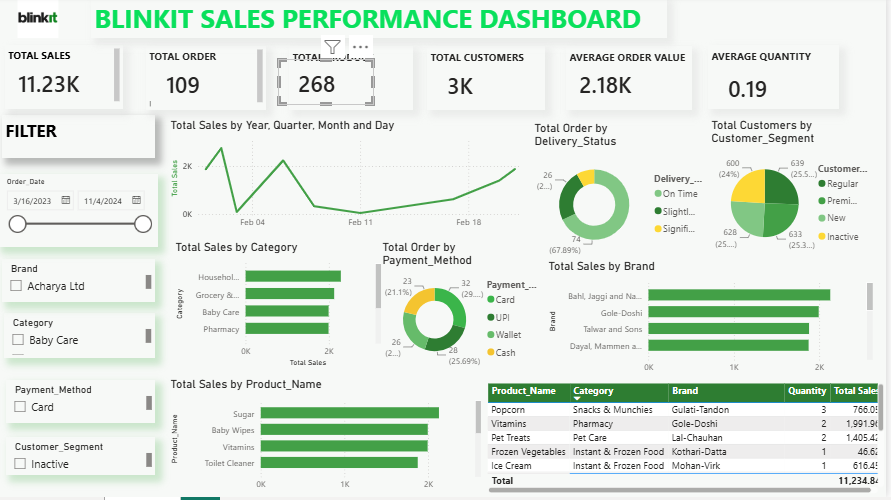

What the dashboard file says about the page in this screenshot:
{"tool":"powerbi","page":{"name":"Page 1","canvas":[1280,720],"ordinal":0},"visuals":[{"type":"clusteredBarChart","fields":{"Y":["blinkit_customers.Total Sales"],"Category":["blinkit_products.Category"]},"box":[250.2,349.8,305.9,187.3],"z":0},{"type":"clusteredBarChart","fields":{"Y":["blinkit_customers.Total Sales"],"Category":["blinkit_products.Brand"]},"box":[787.7,377.3,476.6,174.2],"z":1000},{"type":"lineChart","fields":{"Category":["blinkit_orders.Order_Date.Variation.Date Hierarchy.Year","blinkit_orders.Order_Date.Variation.Date Hierarchy.Quarter","blinkit_orders.Order_Date.Variation.Date Hierarchy.Month","blinkit_orders.Order_Date.Variation.Date Hierarchy.Day"],"Y":["blinkit_customers.Total Sales"]},"box":[242.9,174.1,523.9,168.3],"z":2000},{"type":"donutChart","fields":{"Category":["blinkit_orders.Payment_Method"],"Y":["blinkit_customers.Total Order"]},"box":[548.6,349.9,239,187.2],"z":3000},{"type":"donutChart","fields":{"Category":["blinkit_orders.Delivery_Status"],"Y":["blinkit_customers.Total Order"]},"box":[766.8,178.5,256.1,199],"z":4000},{"type":"pieChart","fields":{"Category":["blinkit_customers.Customer_Segment"],"Y":["blinkit_customers.Total Customers"]},"box":[1022.9,174.1,241.5,203.4],"z":5000},{"type":"barChart","fields":{"Category":["blinkit_products.Product_Name"],"Y":["blinkit_customers.Total Sales"]},"box":[242.9,547.3,456.6,172.7],"z":6000},{"type":"tableEx","fields":{"Values":["blinkit_products.Product_Name","blinkit_products.Category","blinkit_products.Brand","blinkit_order_items.Quantity","blinkit_customers.Total Sales"]},"box":[699.5,551.7,581,168.3],"z":7000},{"type":"slicer","fields":{"Values":["blinkit_orders.Order_Date"]},"box":[0,254.9,230.4,105.1],"z":8000},{"type":"slicer","fields":{"Values":["blinkit_products.Category"]},"box":[8.6,455,217.4,64.8],"z":9000},{"type":"slicer","fields":{"Values":["blinkit_products.Brand"]},"box":[5.8,377.3,220.3,61.9],"z":10000},{"type":"slicer","fields":{"Values":["blinkit_customers.Customer_Segment"]},"box":[11.5,633.6,214.6,54.7],"z":11000},{"type":"slicer","fields":{"Values":["blinkit_orders.Payment_Method"]},"box":[11.5,551.5,214.6,61.9],"z":12000},{"type":"textbox","box":[133.9,0,829.4,59],"z":13000},{"type":"textbox","box":[10.1,69.1,169.9,92.2],"z":14000},{"type":"textbox","box":[213.7,70.2,172.7,92.2],"z":15000},{"type":"textbox","box":[418.5,70.2,178.5,92.2],"z":16000},{"type":"textbox","box":[617.6,70.2,169.8,92.2],"z":17000},{"type":"textbox","box":[818,70.2,181.5,92.2],"z":18000},{"type":"textbox","box":[1022.9,68.8,188.8,92.2],"z":19000},{"type":"cardVisual","fields":{"Data":["blinkit_customers.Total Sales"]},"box":[0,86.4,182.9,73.4],"z":20000},{"type":"cardVisual","fields":{"Data":["blinkit_customers.Total Order"]},"box":[213.1,87.8,138.2,73.4],"z":21000},{"type":"cardVisual","fields":{"Data":["blinkit_customers.Total Product"]},"box":[403.9,89.3,137.6,65.9],"z":22000},{"type":"cardVisual","fields":{"Data":["blinkit_customers.Total Customers"]},"box":[617.8,89.3,133.9,73.4],"z":23000},{"type":"cardVisual","fields":{"Data":["blinkit_customers.Average Order Value"]},"box":[807.8,85,148.3,76.3],"z":24000},{"type":"cardVisual","fields":{"Data":["blinkit_customers.Average Quantity per Order"]},"box":[1022.4,87.8,148.3,82.1],"z":25000},{"type":"textbox","box":[5.8,169.9,220.3,61.9],"z":26000},{"type":"image","box":[0,0,115.2,59],"z":27000}]}

Visuals, with their boxes in screenshot pixels (x1, y1, x2, y2), scaled from the page's 1280x720 canvas onto the 891x500 screenshot:
clusteredBarChart - blinkit_customers.Total Sales x blinkit_products.Category: BBox(174, 243, 387, 373)
clusteredBarChart - blinkit_customers.Total Sales x blinkit_products.Brand: BBox(548, 262, 880, 383)
lineChart - blinkit_orders.Order_Date.Variation.Date Hierarchy.Year x blinkit_orders.Order_Date.Variation.Date Hierarchy.Quarter: BBox(169, 121, 534, 238)
donutChart - blinkit_orders.Payment_Method x blinkit_customers.Total Order: BBox(382, 243, 548, 373)
donutChart - blinkit_orders.Delivery_Status x blinkit_customers.Total Order: BBox(534, 124, 712, 262)
pieChart - blinkit_customers.Customer_Segment x blinkit_customers.Total Customers: BBox(712, 121, 880, 262)
barChart - blinkit_products.Product_Name x blinkit_customers.Total Sales: BBox(169, 380, 487, 499)
tableEx - blinkit_products.Product_Name x blinkit_products.Category: BBox(487, 383, 890, 499)
slicer - blinkit_orders.Order_Date: BBox(0, 177, 160, 250)
slicer - blinkit_products.Category: BBox(6, 316, 157, 361)
slicer - blinkit_products.Brand: BBox(4, 262, 157, 305)
slicer - blinkit_customers.Customer_Segment: BBox(8, 440, 157, 478)
slicer - blinkit_orders.Payment_Method: BBox(8, 383, 157, 426)
textbox: BBox(93, 0, 671, 41)
textbox: BBox(7, 48, 125, 112)
textbox: BBox(149, 49, 269, 113)
textbox: BBox(291, 49, 416, 113)
textbox: BBox(430, 49, 548, 113)
textbox: BBox(569, 49, 696, 113)
textbox: BBox(712, 48, 843, 112)
cardVisual - blinkit_customers.Total Sales: BBox(0, 60, 127, 111)
cardVisual - blinkit_customers.Total Order: BBox(148, 61, 245, 112)
cardVisual - blinkit_customers.Total Product: BBox(281, 62, 377, 108)
cardVisual - blinkit_customers.Total Customers: BBox(430, 62, 523, 113)
cardVisual - blinkit_customers.Average Order Value: BBox(562, 59, 666, 112)
cardVisual - blinkit_customers.Average Quantity per Order: BBox(712, 61, 815, 118)
textbox: BBox(4, 118, 157, 161)
image: BBox(0, 0, 80, 41)
